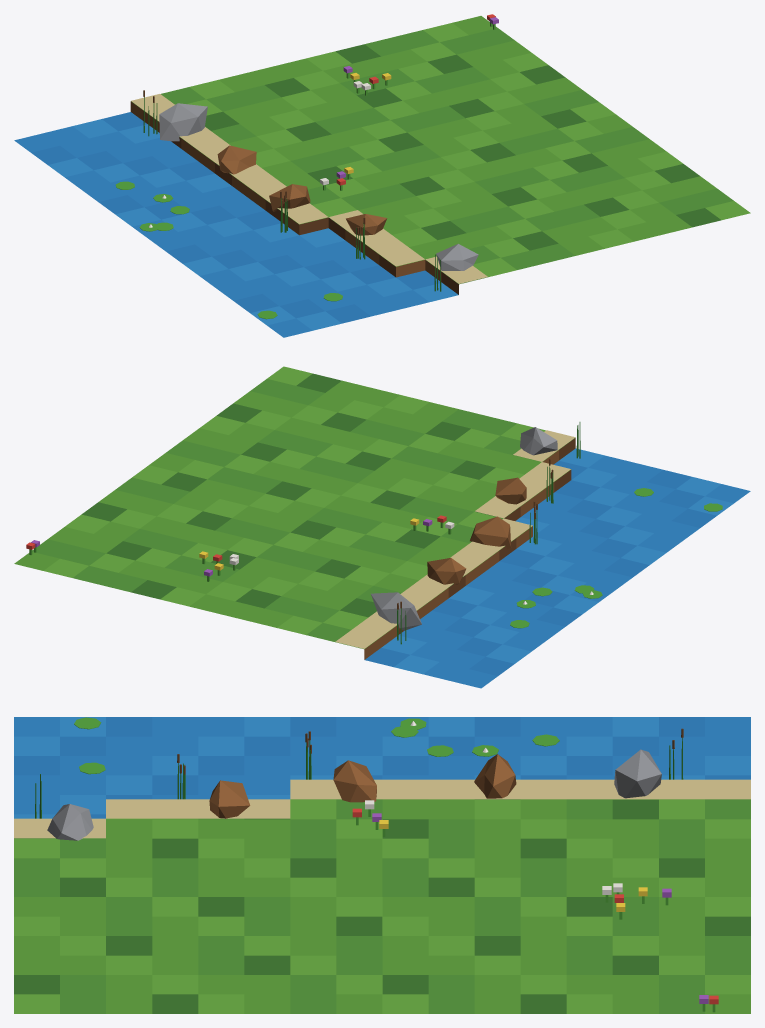
The model's file is chunk_0_4.glb.
The picture shows the model from 3 angles, top to bottom: view 1: azimuth 30°, elevation 25°; view 2: azimuth 150°, elevation 25°; view 3: azimuth 270°, elevation 25°; orthographic projection. The views are drawn at different scales.
Parts seen in each view (by area): view 1: chunk_0_4; view 2: chunk_0_4; view 3: chunk_0_4.
Boxes of the visible parts, x1,y1,x2,y2 form: chunk_0_4: [14, 14, 750, 337]; chunk_0_4: [14, 366, 750, 688]; chunk_0_4: [14, 717, 750, 1013].
Size of the model in its own units: 16 by 1.5 by 16.
